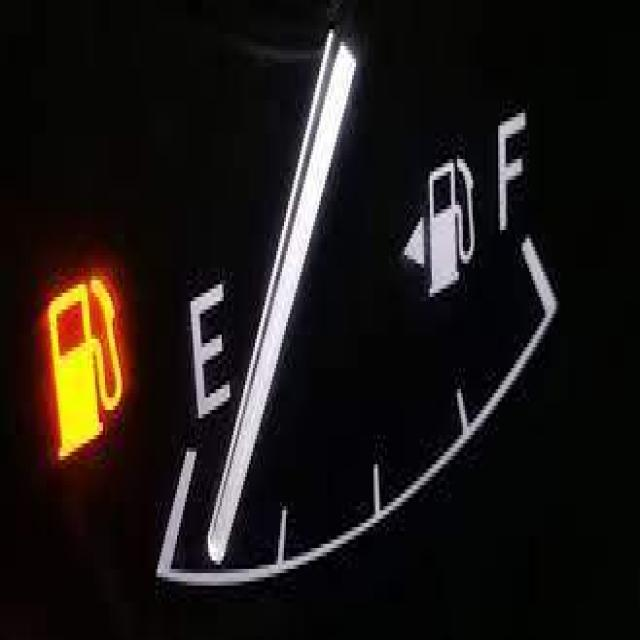kontrolka: (33, 230, 144, 510)
